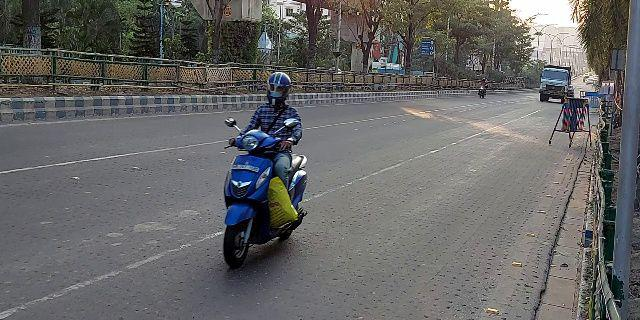Motorbike: (204, 74, 311, 269), (474, 72, 491, 101)
Truck: (539, 60, 572, 105)
